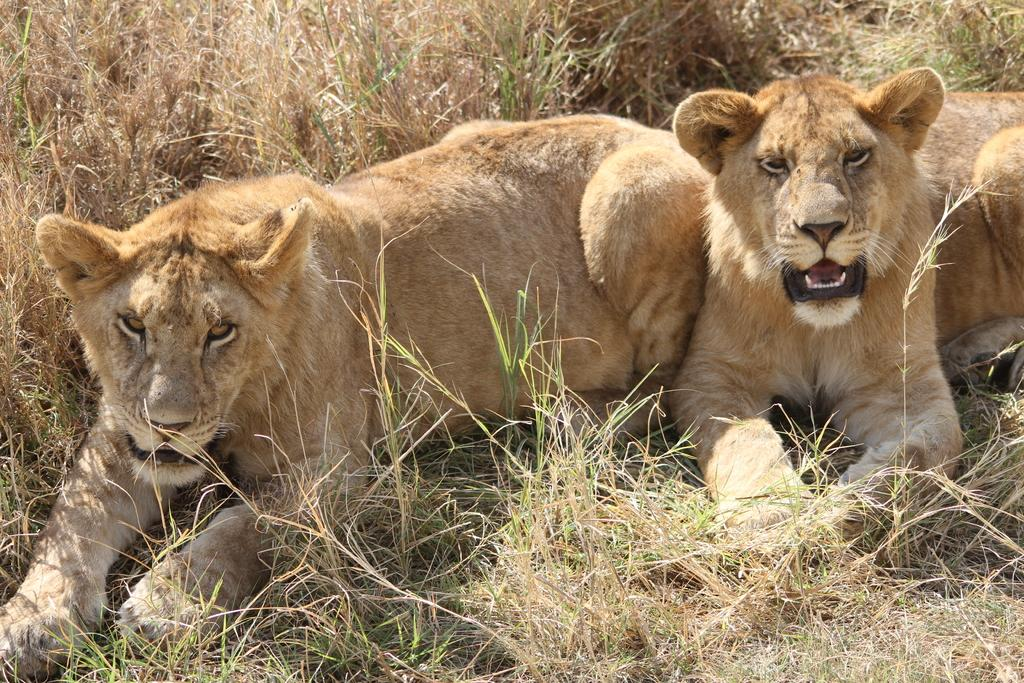lions: (32, 186, 678, 506), (665, 76, 989, 527)
